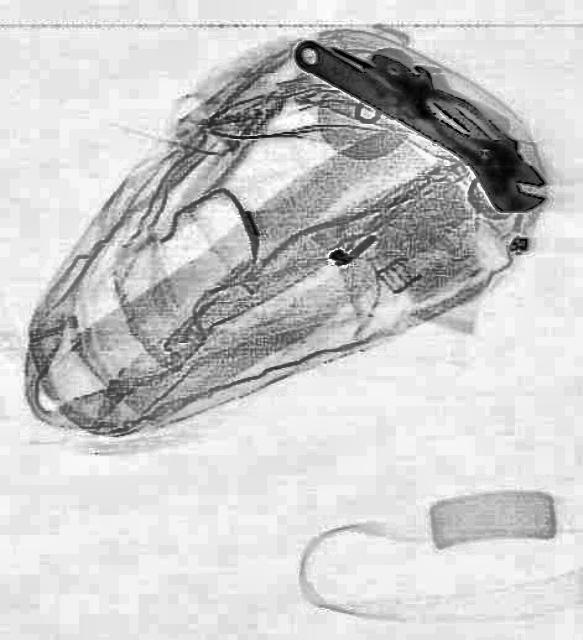Pliers: (362, 39, 524, 169)
Wrench: (277, 18, 559, 228)
